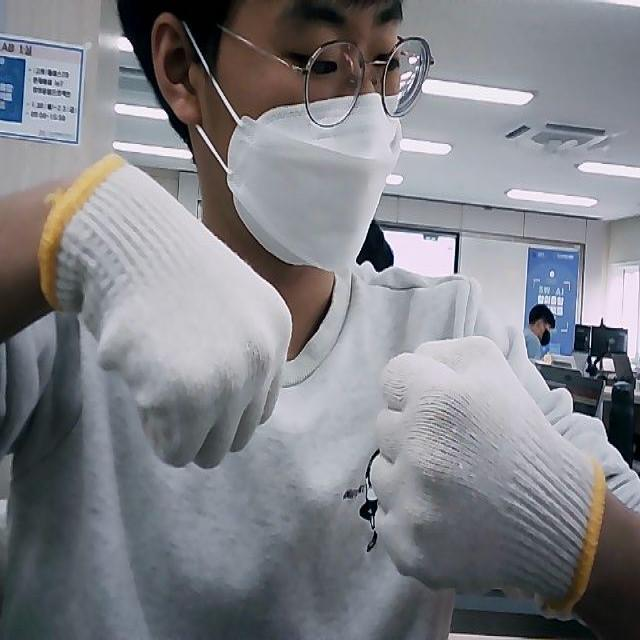gloves: (38, 152, 294, 474), (374, 336, 606, 614)
